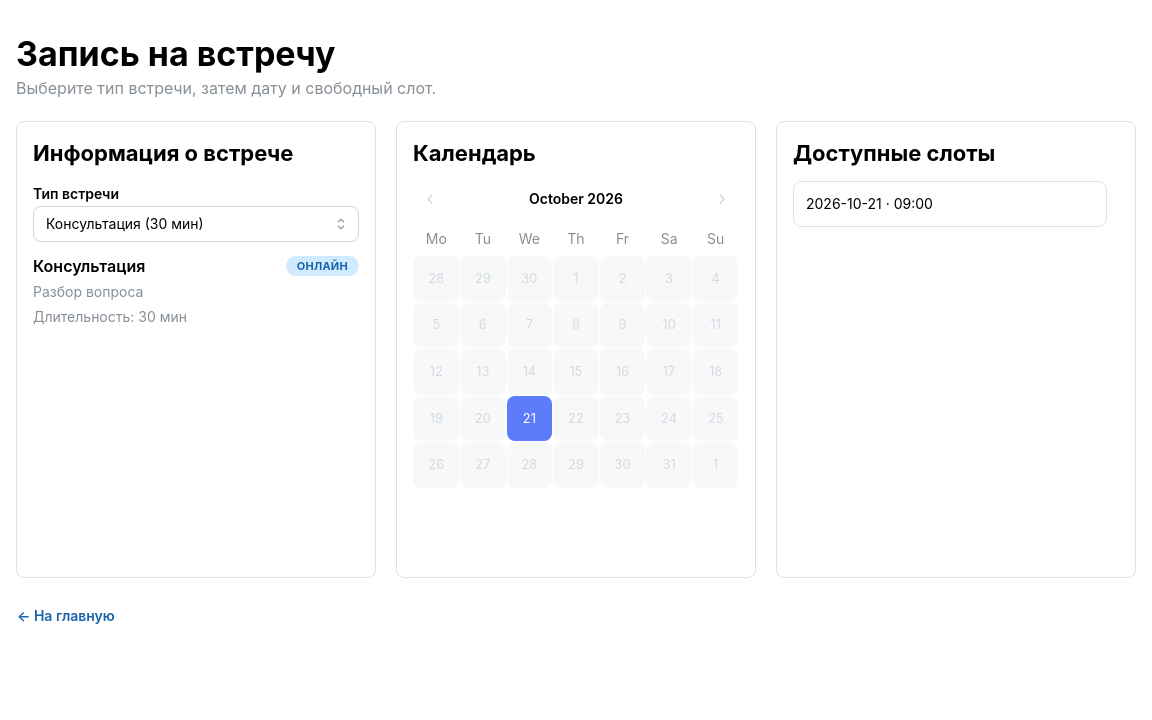
Test: Календарь и слоты › фиксирует выбранный слот и открывает форму
This screenshot has width=1152, height=720.
Click the button "2026-10-21 · 09:00" at [950, 204], box [793, 181, 1107, 227]
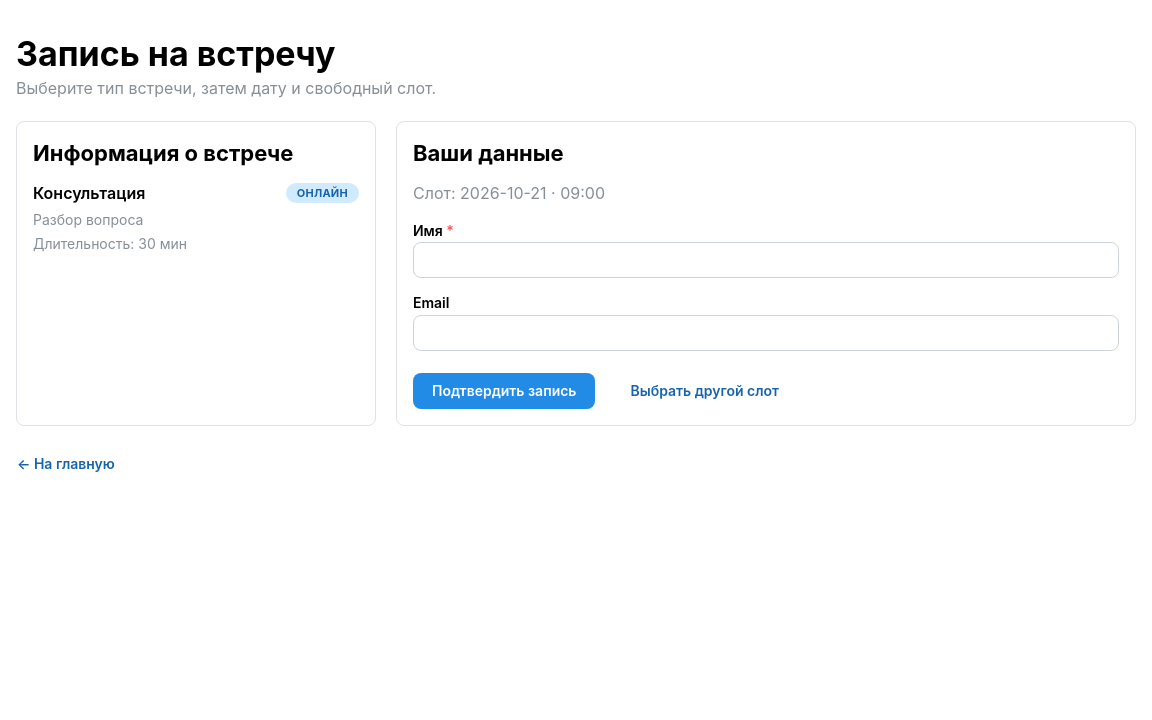
Expected: the heading "Ваши данные" is shown, [413, 140, 564, 166]
